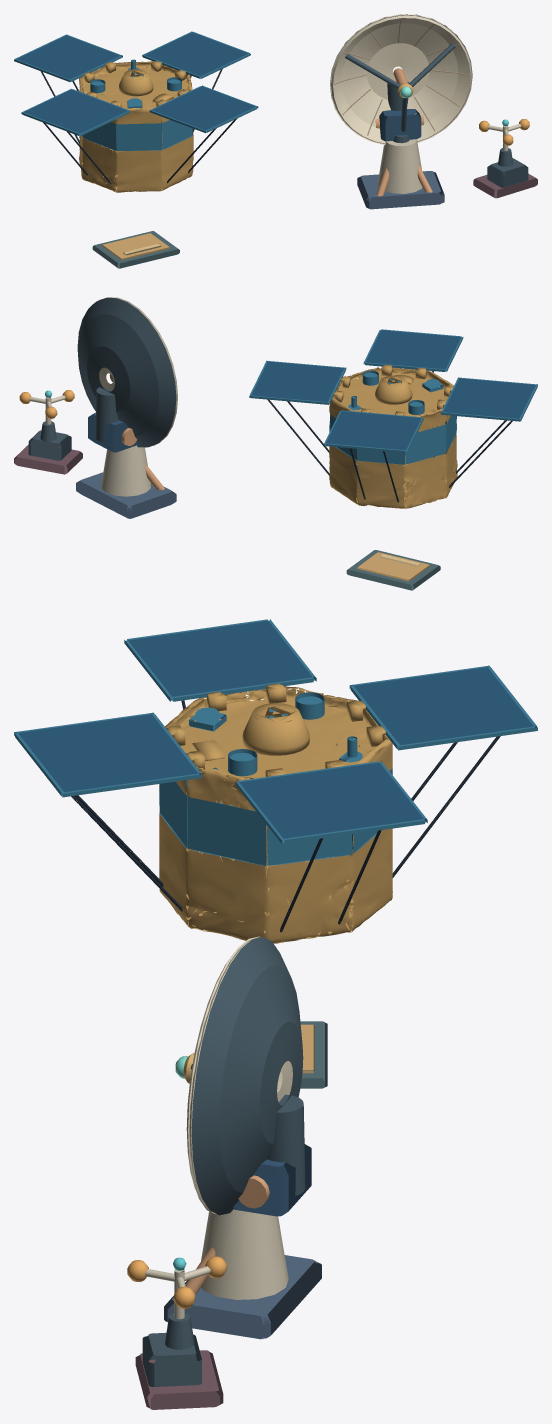
File: telescopio.obj
3 views of the same model, one above another, from view 1: azimuth 30°, elevation 25°; view 2: azimuth 150°, elevation 25°; view 3: azimuth 270°, elevation 25° (orthographic). The views are drawn at different scales.
Visible parts, largest first — view 1: telescopio; view 2: telescopio; view 3: telescopio.
Part boxes in pixels (<box>): telescopio: <box>14,14,537,268</box>; telescopio: <box>14,297,537,590</box>; telescopio: <box>14,619,537,1409</box>.
Size of the model in its own units: 1.76 by 0.6304 by 0.8429.
